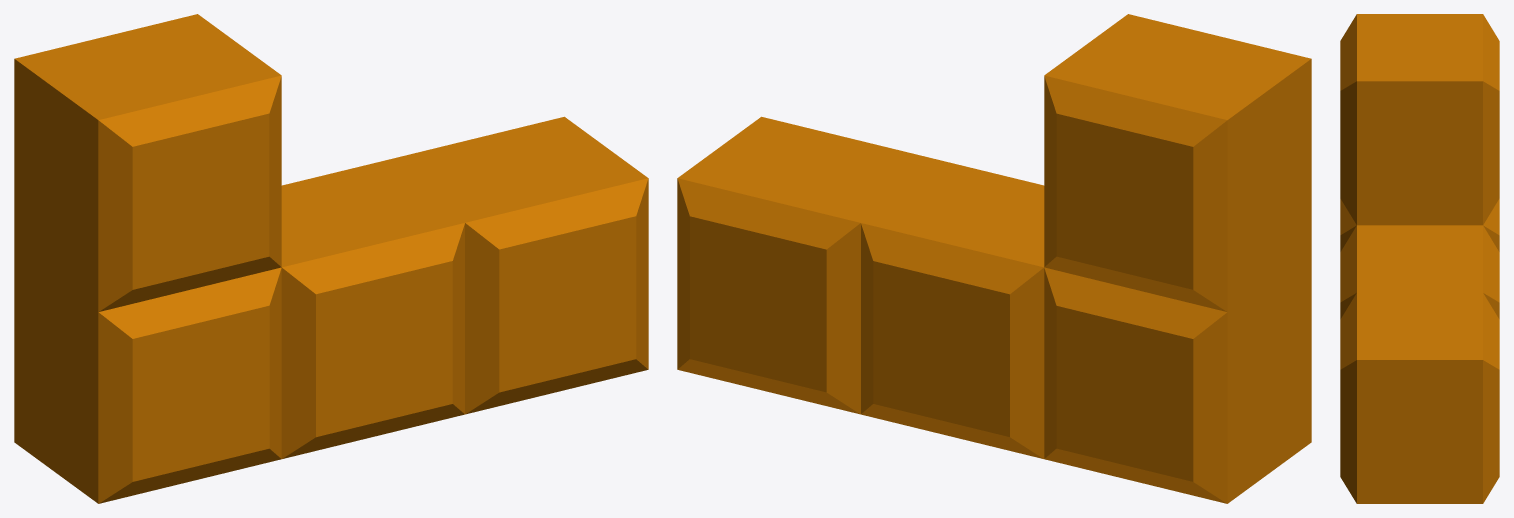
Rendered from LMino.fbx.
3 views of the same model, side by side, from view 1: azimuth 30°, elevation 25°; view 2: azimuth 150°, elevation 25°; view 3: azimuth 270°, elevation 25° (orthographic). The views are drawn at different scales.
Visible parts, largest first — view 1: Cube.003; view 2: Cube.003; view 3: Cube.003.
Boxes of the visible parts, box(x1,y1,x2,y2) form: Cube.003: box(14, 14, 648, 503); Cube.003: box(677, 14, 1311, 503); Cube.003: box(1340, 14, 1499, 503).
Size of the model in its own units: 300 by 200 by 100.
